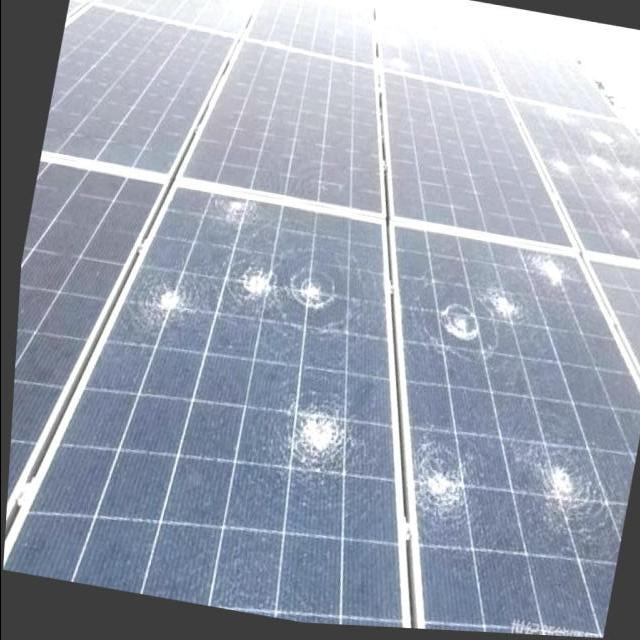cracked: (125, 184, 403, 624), (404, 220, 638, 636)
